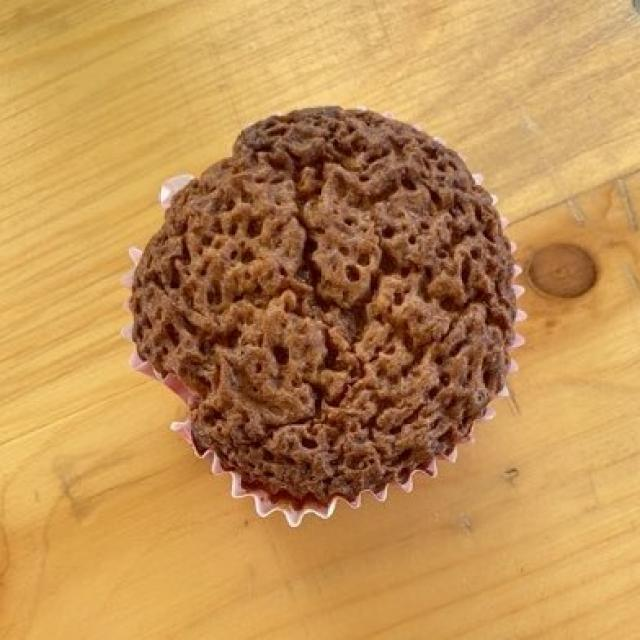muffin: (130, 117, 515, 507)
